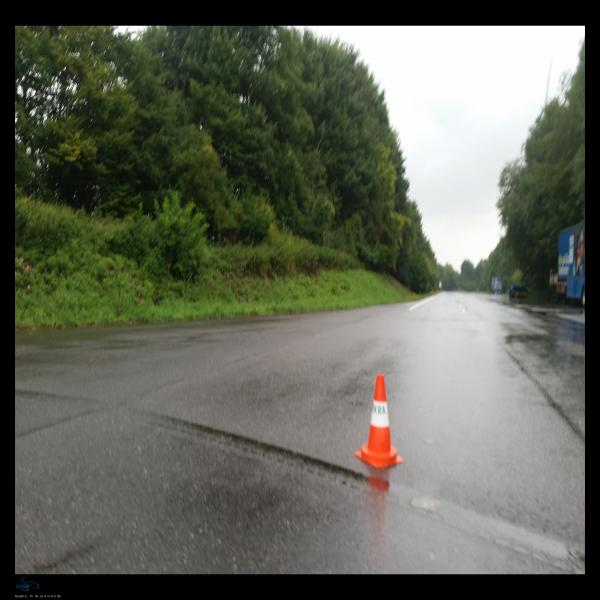orange_cone: (354, 374, 404, 468)
